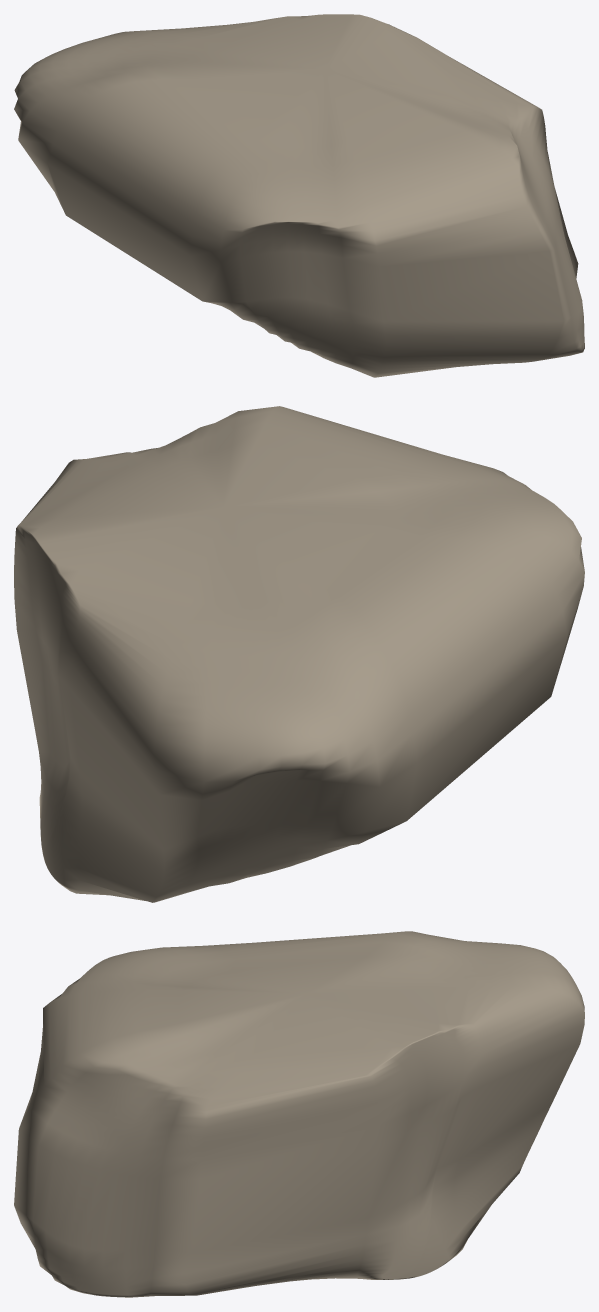
Rendered from landscape.rock.gritstone_09.glb.
3 views of the same model, one above another, from view 1: azimuth 30°, elevation 25°; view 2: azimuth 150°, elevation 25°; view 3: azimuth 270°, elevation 25° (orthographic). The views are drawn at different scales.
Visible parts, largest first — view 1: main__stone_a98; view 2: main__stone_a98; view 3: main__stone_a98.
Part boxes in pixels (box(x1,y1,x2,y2)): main__stone_a98: box(14, 14, 584, 377); main__stone_a98: box(14, 406, 584, 902); main__stone_a98: box(14, 931, 584, 1297).
Size of the model in its own units: 0.8913 by 0.5179 by 1.09.
